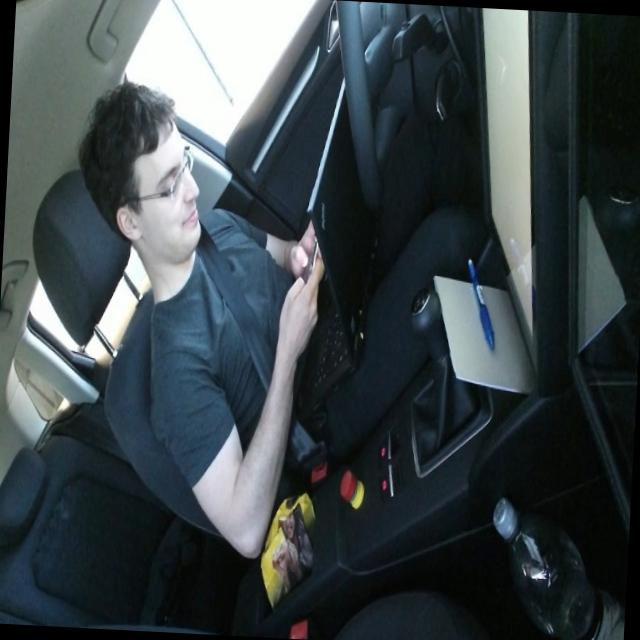laptop: (294, 58, 384, 424)
pen: (462, 255, 499, 352)
